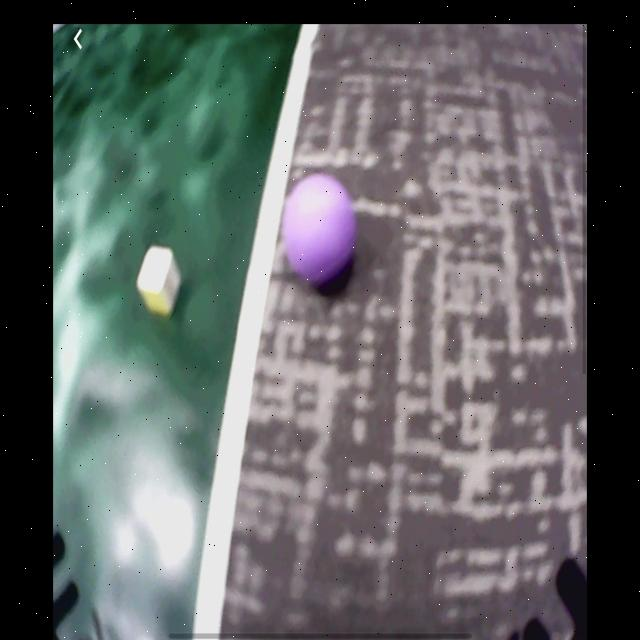ball: (281, 174, 357, 287)
